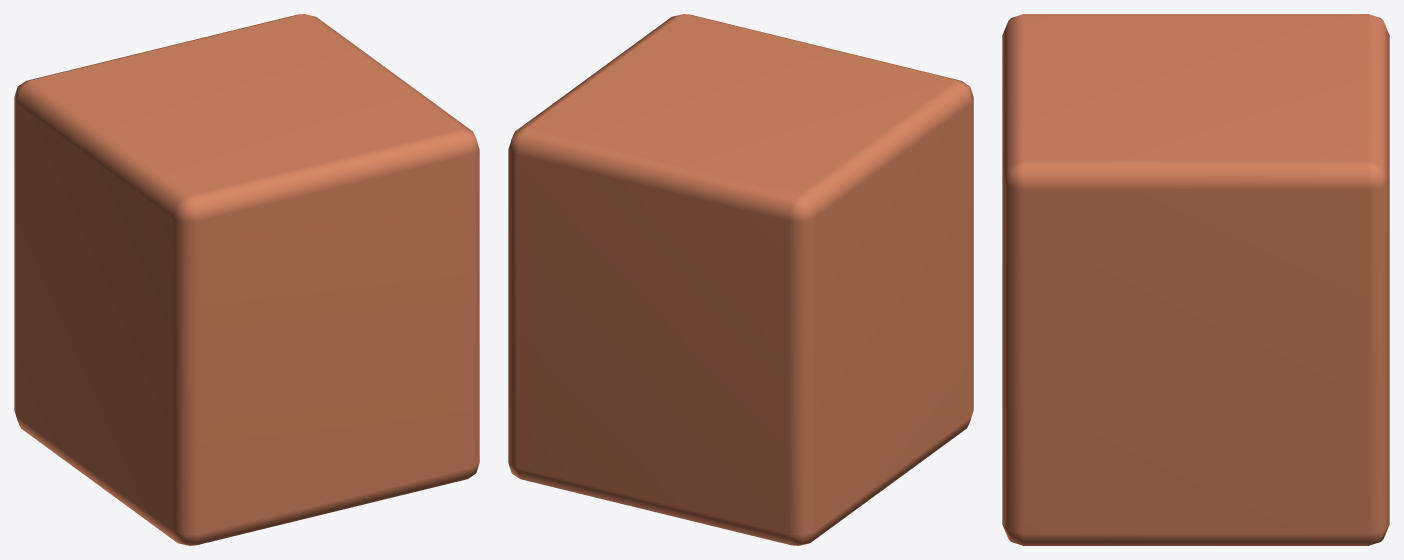
Rendered from wall_terracotta_1m.glb.
3 views of the same model, side by side, from view 1: azimuth 30°, elevation 25°; view 2: azimuth 150°, elevation 25°; view 3: azimuth 270°, elevation 25° (orthographic). The views are drawn at different scales.
Parts seen in each view (by area): view 1: Block.005; view 2: Block.005; view 3: Block.005.
Part boxes in pixels (x1,y1,x2,y2): Block.005: (14, 14, 479, 545); Block.005: (508, 14, 973, 545); Block.005: (1002, 14, 1389, 545).
Bounding box in the file's own units: 1 × 1.1 × 1.
